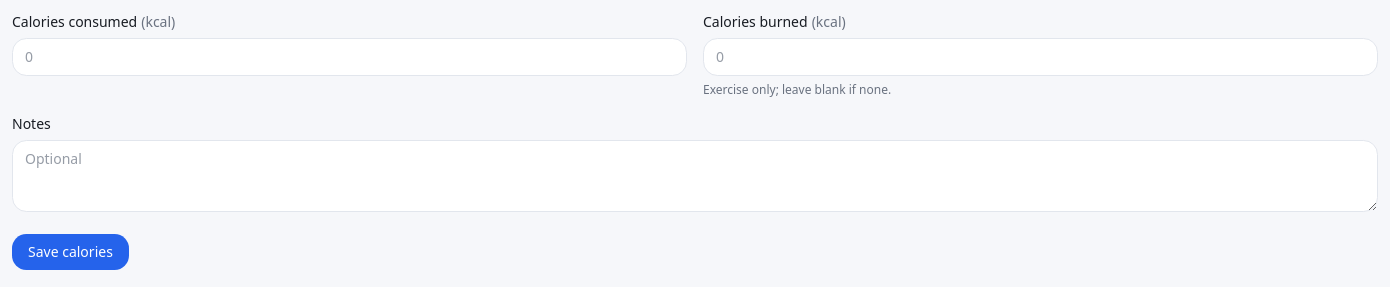
Test: calorie quick entry › blocks submission when calories consumed is missing
Click the button "Save calories" at x=70, y=252, box [12, 234, 129, 270]
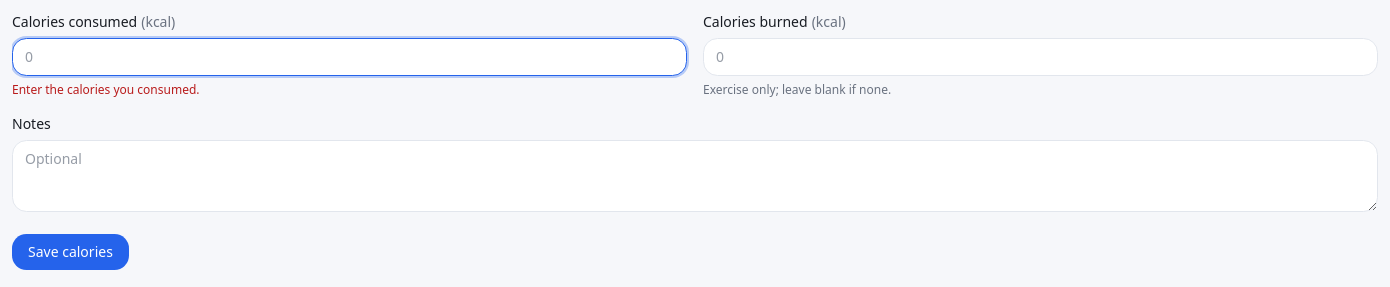
Expected: the text "Enter the calories you consumed." is shown, [12, 81, 200, 98]
